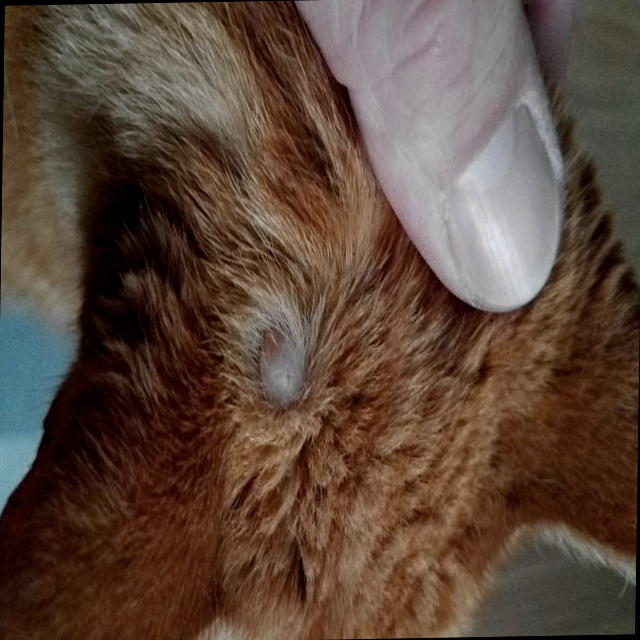lump_and_bump: (249, 320, 310, 410)
